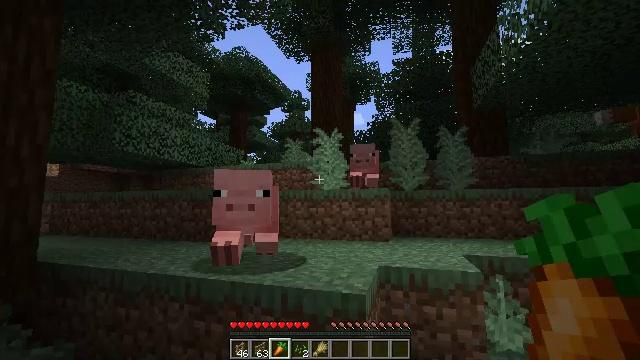pig: (210, 170, 280, 268), (350, 143, 379, 188)
